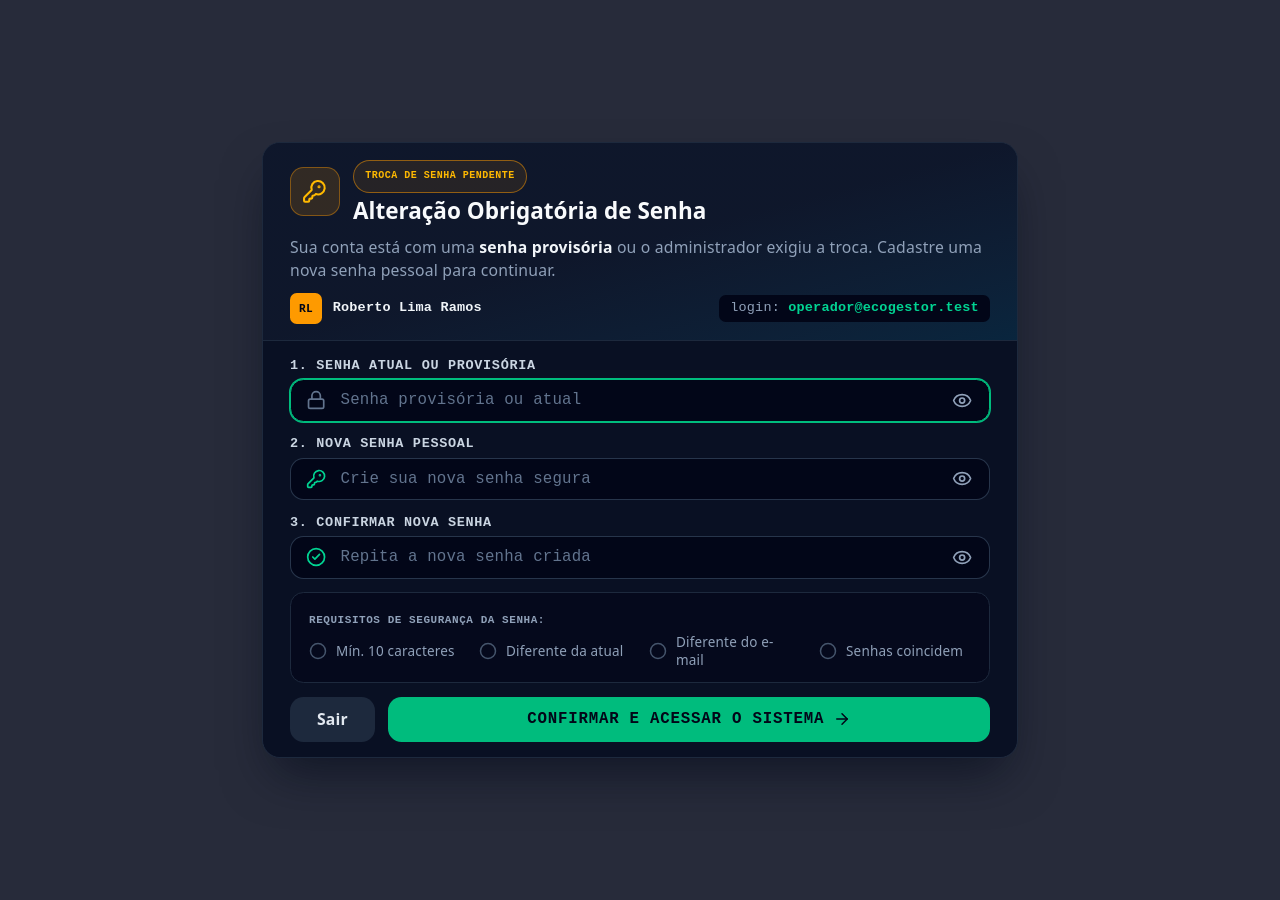
Scenario: TrocaSenhaObrigatoriaModal › usa uma mensagem padrão quando a recusa não tem mensagem
Step 1. Type "provisoria-123" into the password field labelled "1. Senha atual ou provisória" → (640, 400), box [290,379,990,422]
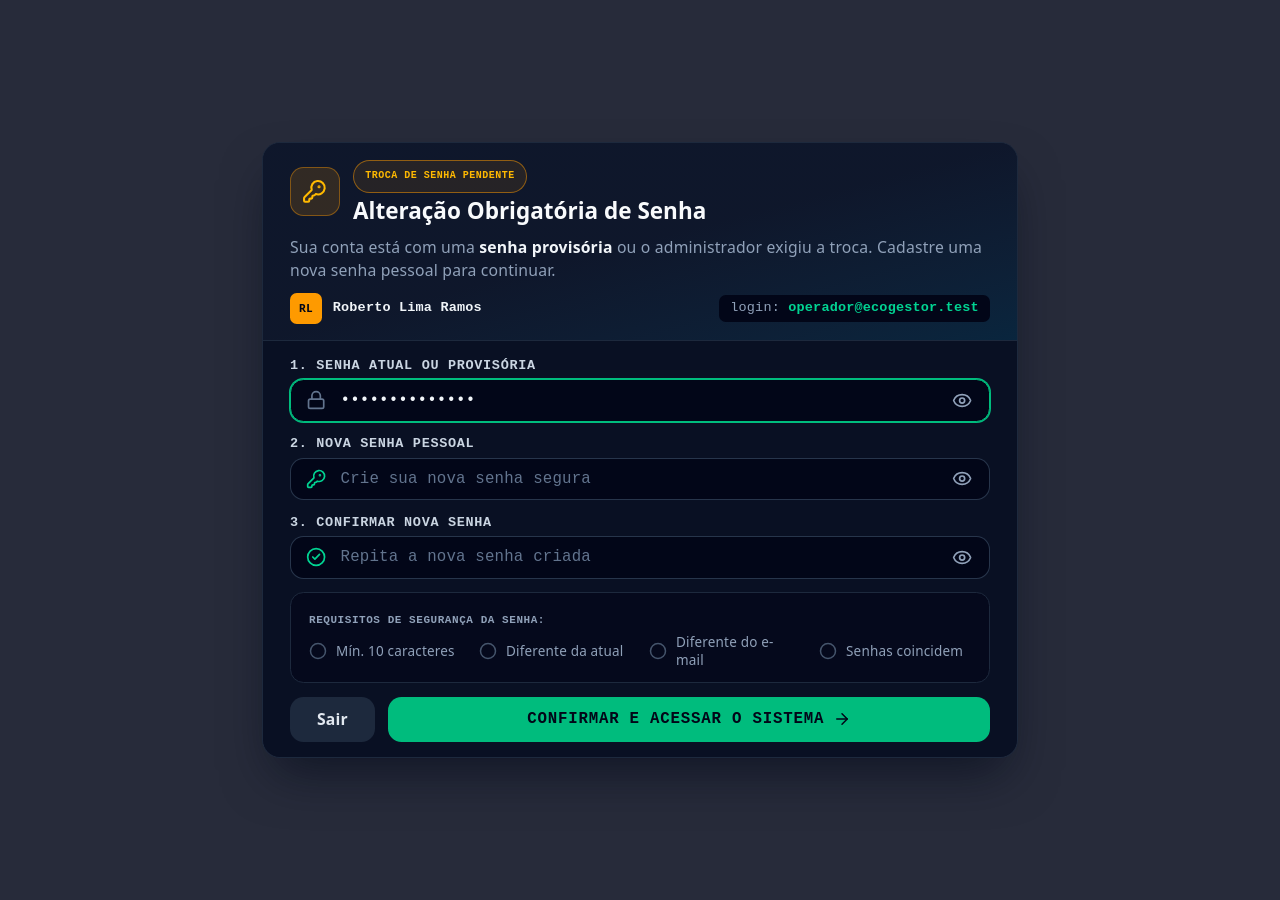
Step 2. Type "nova-senha-segura" into the password field labelled "2. Nova senha pessoal" → (640, 479), box [290,458,990,500]
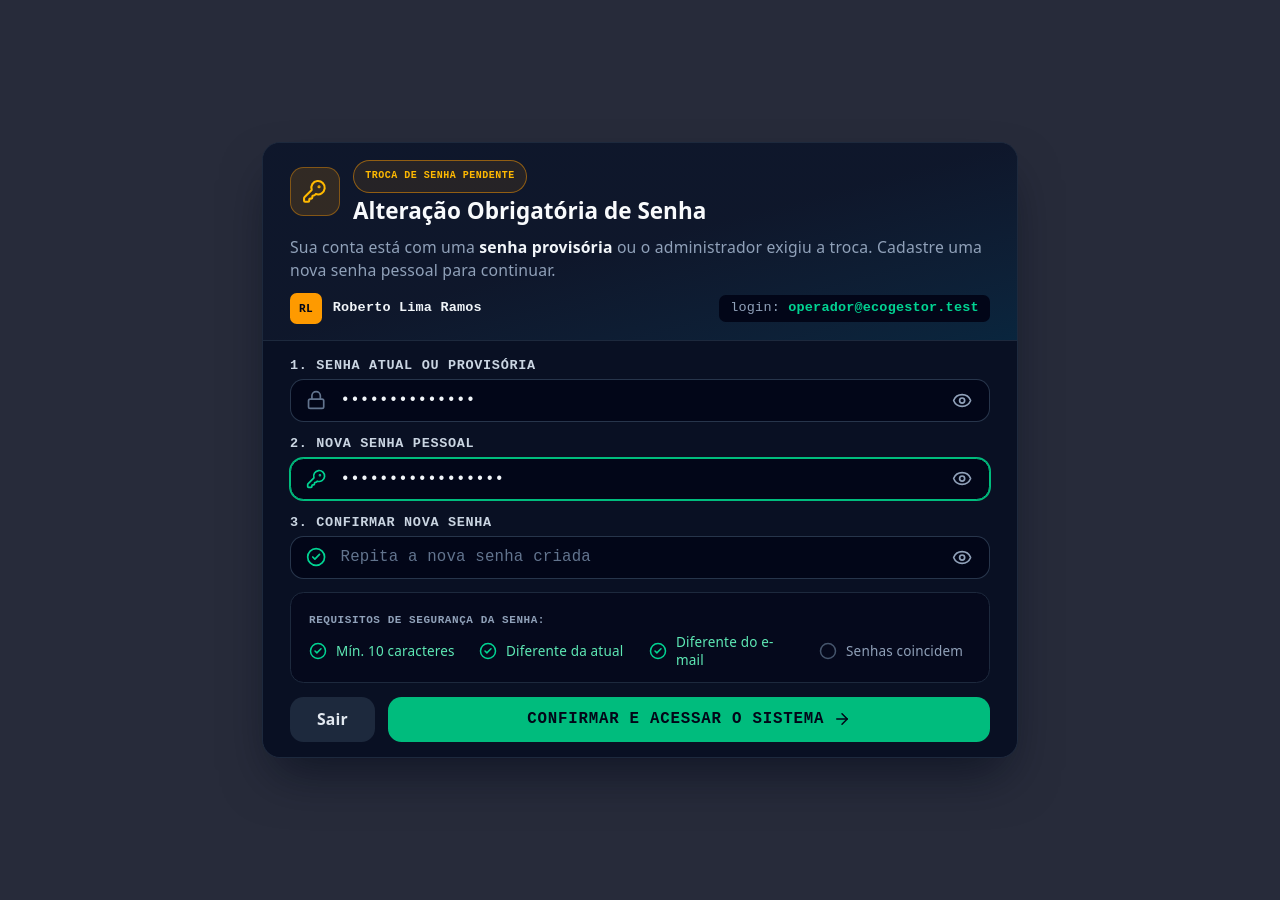
Step 3. Type "nova-senha-segura" into the password field labelled "3. Confirmar nova senha" → (640, 557), box [290,536,990,579]
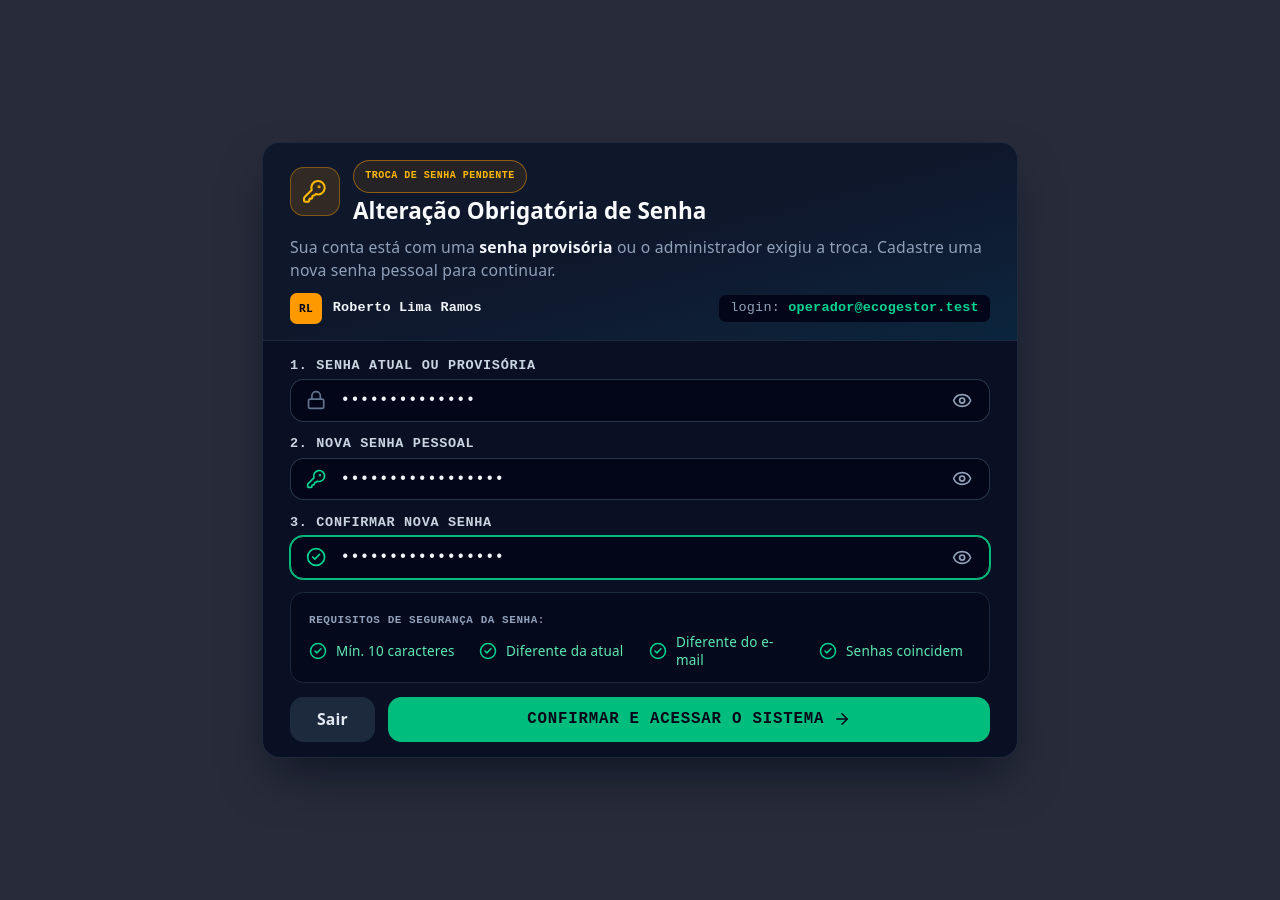
Step 4. Click the button "Confirmar e acessar o sistema" → (689, 719), box [388,697,990,742]
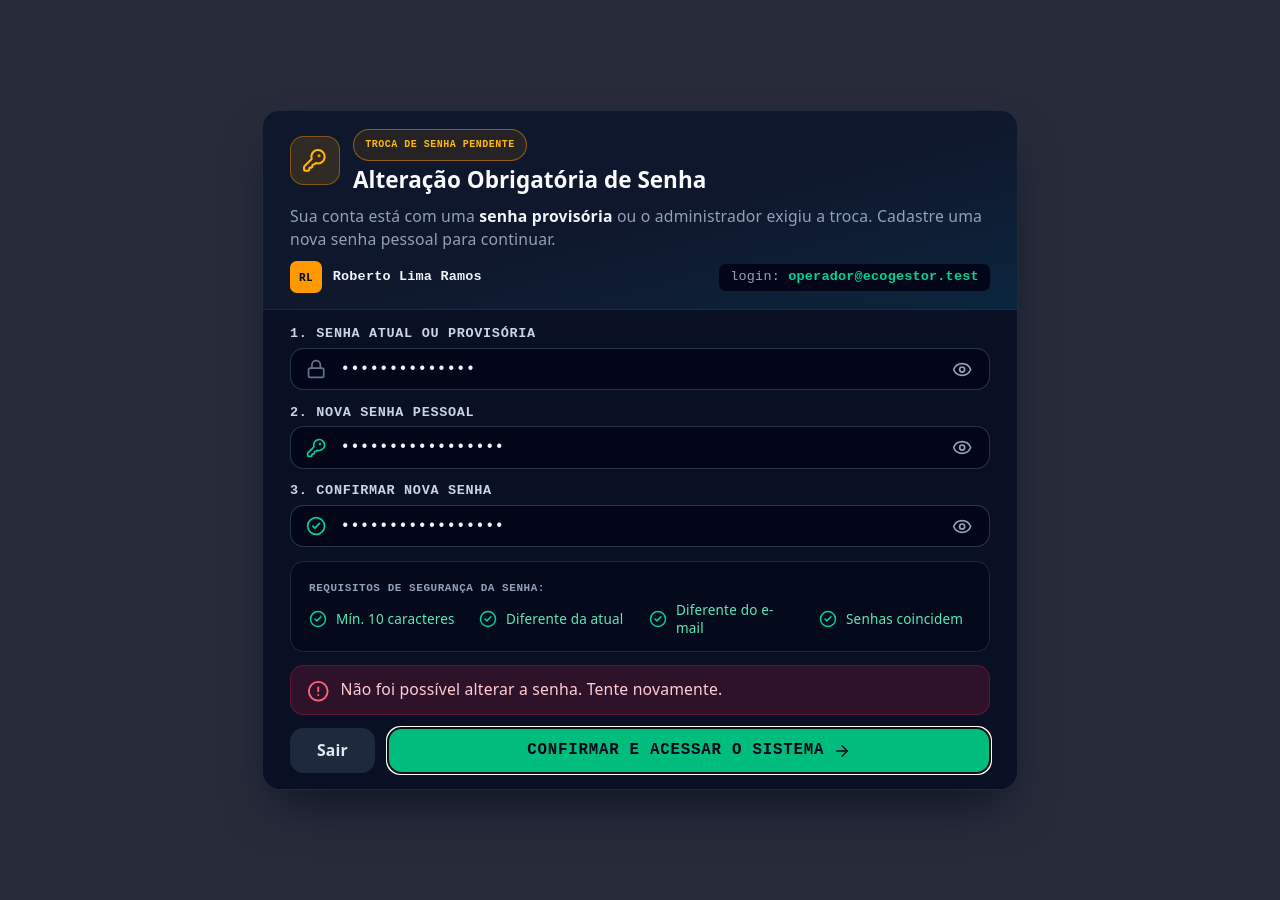
Check: the message reads "Não foi possível alterar a senha. Tente novamente.", box [340,678,722,700]
